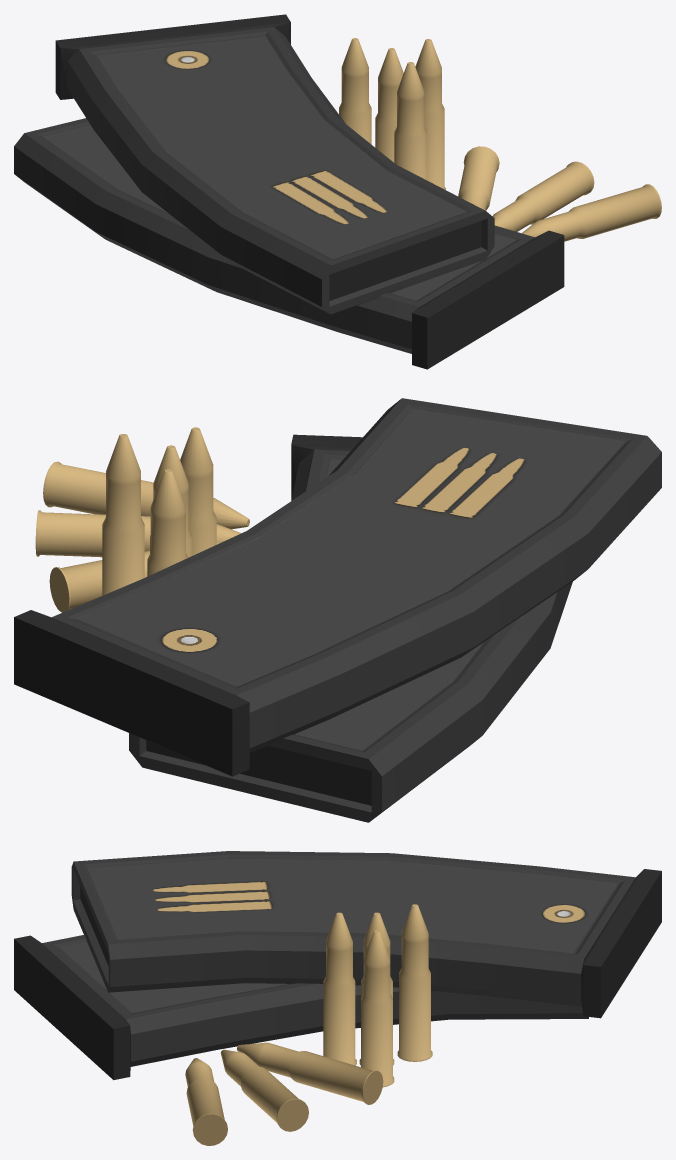
The model's file is Ammo Pickup (Bullets).FBX.
3 renders of one model, top to bottom at view 1: azimuth 30°, elevation 25°; view 2: azimuth 150°, elevation 25°; view 3: azimuth 270°, elevation 25°, orthographic. The views are drawn at different scales.
Parts seen in each view (by area): view 1: Box003; view 2: Box003; view 3: Box003.
Part boxes in pixels (box(x1,y1,x2,y2)): Box003: box(14, 14, 661, 369); Box003: box(14, 398, 661, 822); Box003: box(14, 851, 661, 1145).
Size of the model in its own units: 27.67 by 8.93 by 35.17.
2 materials, 2 textured.
